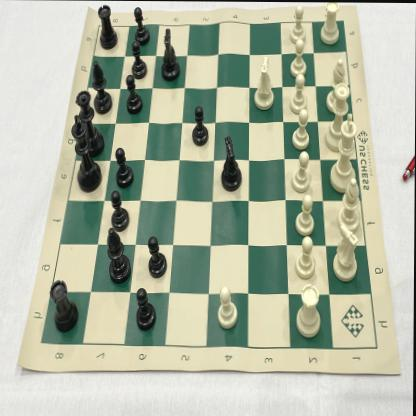black-bishop: (106, 228, 133, 285), (92, 59, 112, 115)
black-king: (71, 114, 103, 194)
black-knight: (219, 132, 243, 192), (160, 27, 181, 81)
black-pawn: (146, 235, 169, 281), (108, 191, 130, 231), (137, 286, 157, 330), (116, 145, 134, 188), (192, 104, 210, 146), (133, 4, 151, 44), (126, 74, 143, 116), (131, 40, 147, 80)
black-queen: (74, 88, 105, 157)
black-rook: (50, 278, 81, 334), (99, 4, 117, 50)
white-bishop: (338, 177, 361, 233), (326, 57, 346, 113)
white-king: (331, 112, 358, 191)
white-knight: (333, 223, 361, 282), (255, 54, 275, 114)
white-pawn: (217, 283, 239, 330), (296, 235, 316, 279), (291, 150, 312, 191), (296, 192, 316, 234), (292, 108, 310, 149), (291, 75, 308, 113), (290, 39, 306, 76), (291, 5, 306, 43)
white-queen: (325, 80, 352, 151)
white-rook: (297, 282, 322, 338), (321, 2, 339, 44)
